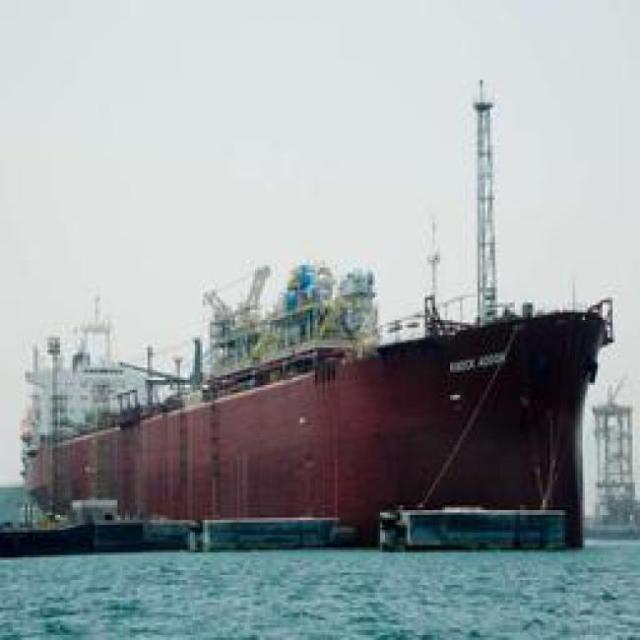boat: (20, 340, 615, 563)
